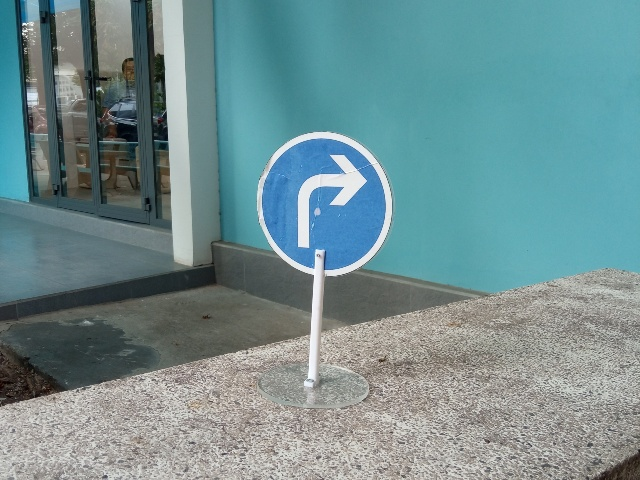Right_Sign: (256, 130, 394, 277)
